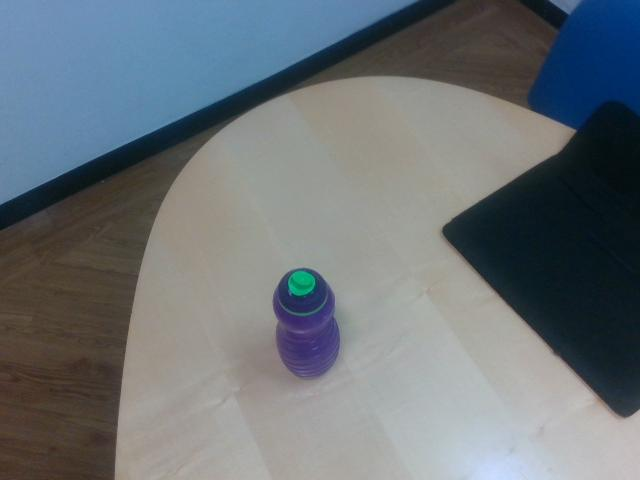bottle: (273, 267, 341, 381)
